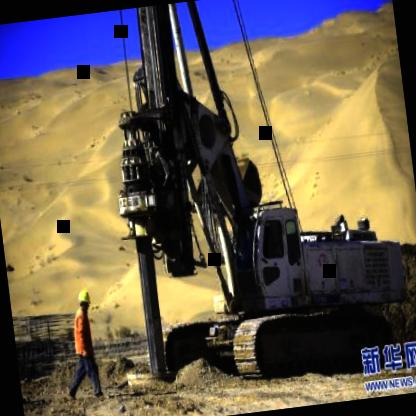helmet: (74, 282, 96, 314)
